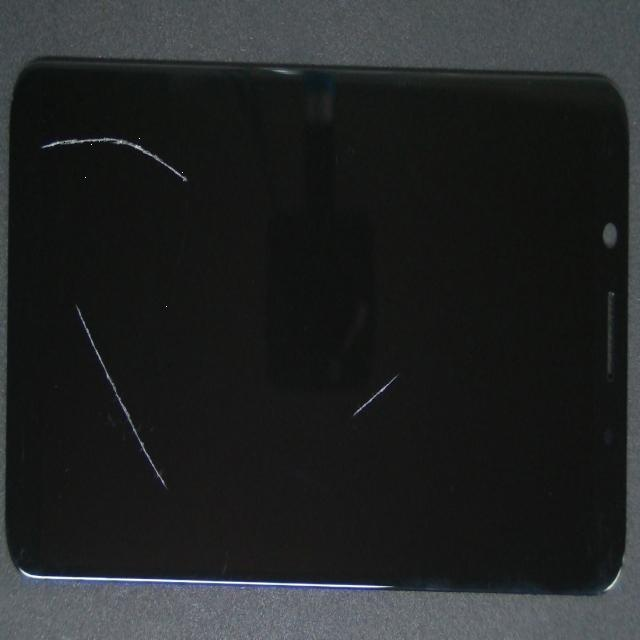scratch: (163, 187, 514, 625), (0, 57, 135, 547), (7, 31, 46, 201)
